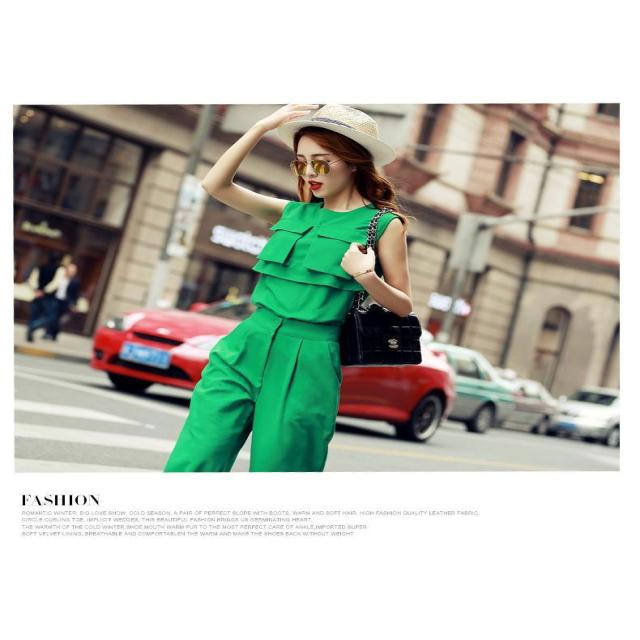trousers: (163, 306, 343, 473)
vest: (257, 200, 399, 325)
